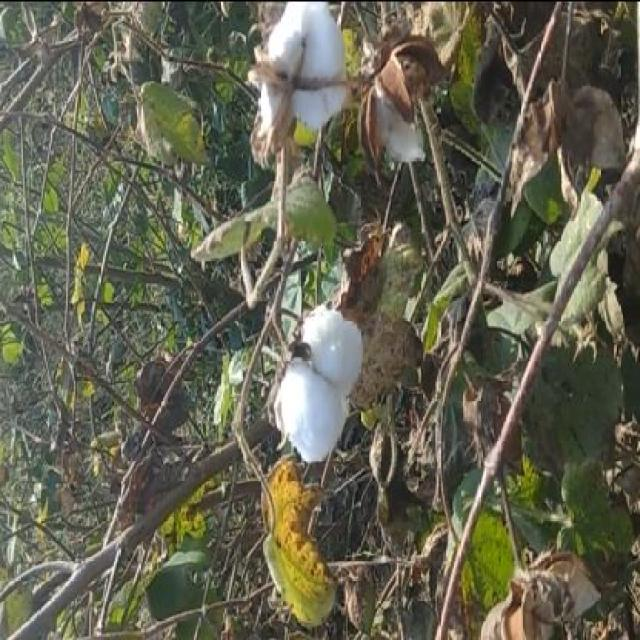cotton_ready: (275, 269, 371, 474), (238, 2, 356, 140)
